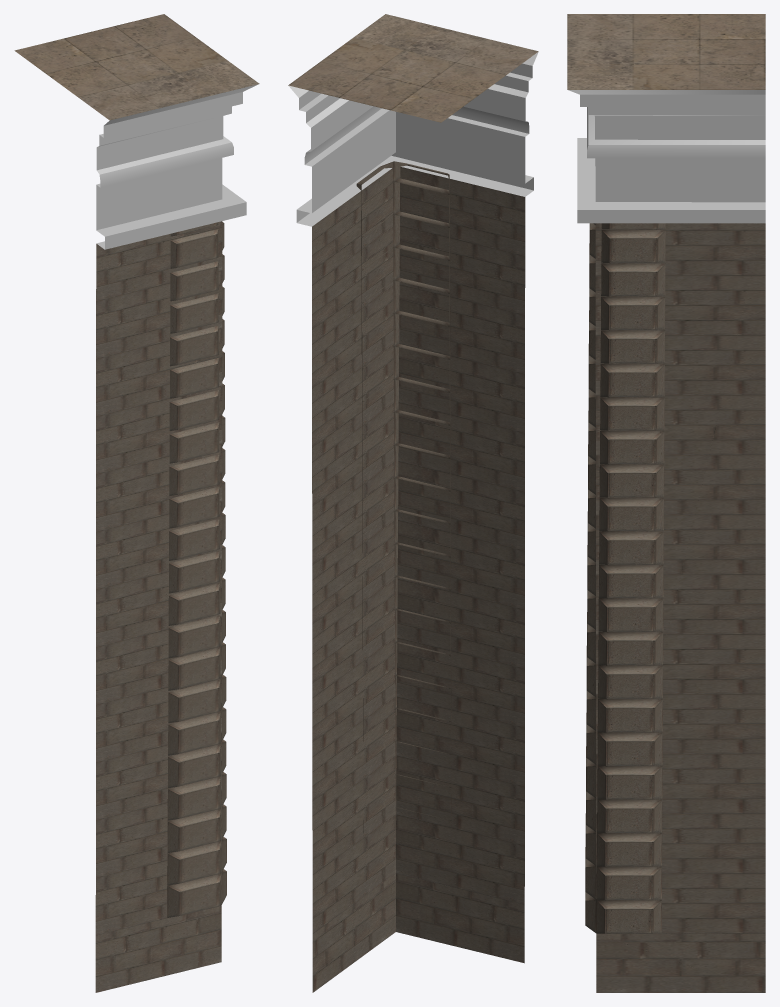
Rendered from Royal_Hall_Enterance_Pillar.FBX.
3 views of the same model, side by side, from view 1: azimuth 30°, elevation 25°; view 2: azimuth 150°, elevation 25°; view 3: azimuth 270°, elevation 25° (orthographic). The views are drawn at different scales.
Parts seen in each view (by area): view 1: Royal_Hall_Enterance_Pillar; view 2: Royal_Hall_Enterance_Pillar; view 3: Royal_Hall_Enterance_Pillar.
Boxes of the visible parts, x1=… form: Royal_Hall_Enterance_Pillar: x1=14, y1=14, x2=259, y2=992; Royal_Hall_Enterance_Pillar: x1=288, y1=14, x2=538, y2=992; Royal_Hall_Enterance_Pillar: x1=567, y1=14, x2=765, y2=992.
Bounding box in the file's own units: 2.13 × 11.98 × 2.35.
